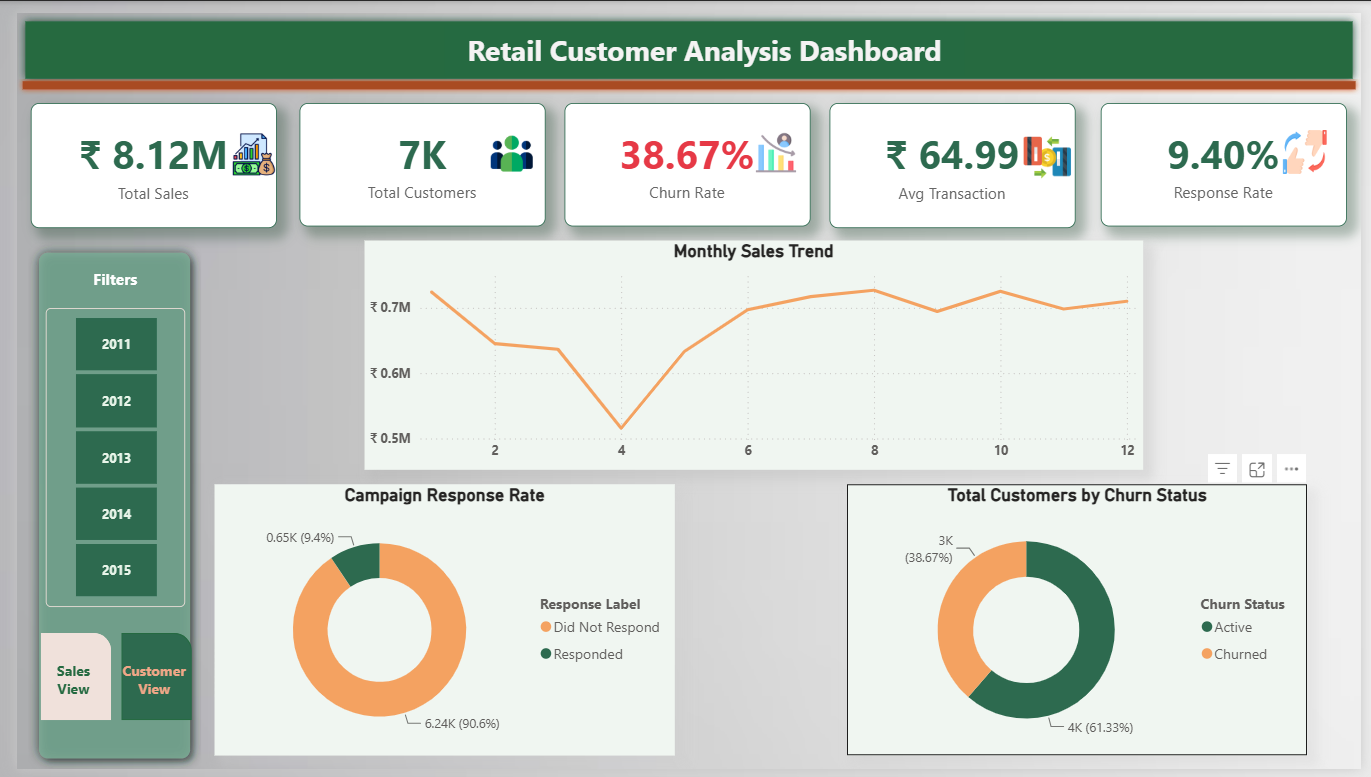

The dashboard page shown, as its layout file describes it:
{"tool":"powerbi","page":{"name":"Dashboard","canvas":[1280,720],"ordinal":0},"visuals":[{"type":"shape","box":[10.2,217.8,164.5,502.5],"z":0},{"type":"shape","box":[0,0,1280,70.6],"z":1000},{"type":"textbox","box":[407,11.6,495.4,47.7],"z":2000},{"type":"shape","box":[0,59.3,1280.2,18.6],"z":3000},{"type":"cardVisual","fields":{"Data":["clean_customer_summary.Total Sales"]},"box":[13.6,86.2,234.8,119.1],"z":4000},{"type":"cardVisual","fields":{"Data":["clean_customer_summary.Total Customers"]},"box":[268.8,86.2,234.8,118],"z":5000},{"type":"cardVisual","fields":{"Data":["clean_customer_summary.Response Rate"]},"box":[1032.1,86.2,234.8,118],"z":6000},{"type":"cardVisual","fields":{"Data":["clean_customer_summary.Churn Rate"]},"box":[521.7,86.2,234.8,118],"z":7000},{"type":"cardVisual","fields":{"Data":["clean_customer_summary.Avg Transaction"]},"box":[773.5,86.2,234.8,119.1],"z":8000},{"type":"clusteredBarChart","title":"Total Sales by Year","fields":{"Category":["clean_transactions.trans_year"],"Y":["clean_customer_summary.Total Sales"]},"box":[190,448.8,437.5,258.8],"z":9000},{"type":"lineChart","title":"Monthly Sales Trend","fields":{"Category":["clean_transactions.trans_month"],"Y":["clean_customer_summary.Total Sales"]},"box":[331.2,216.2,741.2,218.8],"z":10000},{"type":"clusteredBarChart","title":"Top 10 Customers by Spend","fields":{"Y":["Sum(clean_customer_summary.total_spent)"],"Category":["clean_customer_summary.customer_id"]},"box":[790,448.8,436.2,258.8],"z":11000},{"type":"donutChart","fields":{"Category":["clean_customer_summary.Churn Status"],"Y":["clean_customer_summary.Total Customers"]},"box":[790,448.8,438.8,258.8],"z":12000},{"type":"donutChart","title":"Campaign Response Rate","fields":{"Y":["CountNonNull(clean_response.customer_id)"],"Category":["clean_response.Response Label"]},"box":[187.5,448.8,438.8,258.8],"z":13000},{"type":"actionButton","box":[23.8,645.4,138.4,37.4],"z":14000},{"type":"slicer","fields":{"Values":["clean_transactions.trans_year"]},"box":[27.2,281.3,132.7,284.7],"z":15000},{"type":"actionButton","box":[23.8,593.2,138.4,37.4],"z":16000},{"type":"textbox","box":[57.8,238.2,70.3,30.6],"z":17000},{"type":"image","box":[204.2,114.6,44.2,40.8],"z":17001},{"type":"image","box":[451.4,112.3,39.7,44.2],"z":17002},{"type":"image","box":[702.1,112.3,40.8,42],"z":17003},{"type":"image","box":[955,114.6,53.3,46.5],"z":17004},{"type":"image","box":[1200,111.2,53.3,43.1],"z":17005}]}

Visuals, with their boxes in screenshot pixels (x1, y1, x2, y2), scaled from the page's 1280x720 canvas onto the 1371x777 screenshot:
shape: (11, 235, 187, 776)
shape: (0, 0, 1370, 76)
textbox: (436, 13, 967, 64)
shape: (0, 64, 1370, 84)
cardVisual - clean_customer_summary.Total Sales: (15, 93, 266, 222)
cardVisual - clean_customer_summary.Total Customers: (288, 93, 539, 220)
cardVisual - clean_customer_summary.Response Rate: (1105, 93, 1357, 220)
cardVisual - clean_customer_summary.Churn Rate: (559, 93, 810, 220)
cardVisual - clean_customer_summary.Avg Transaction: (828, 93, 1080, 222)
"Total Sales by Year" clusteredBarChart: (204, 484, 672, 764)
"Monthly Sales Trend" lineChart: (355, 233, 1149, 469)
"Top 10 Customers by Spend" clusteredBarChart: (846, 484, 1313, 764)
donutChart - clean_customer_summary.Churn Status x clean_customer_summary.Total Customers: (846, 484, 1316, 764)
"Campaign Response Rate" donutChart: (201, 484, 671, 764)
actionButton: (25, 696, 174, 737)
slicer - clean_transactions.trans_year: (29, 304, 171, 611)
actionButton: (25, 640, 174, 681)
textbox: (62, 257, 137, 290)
image: (219, 124, 266, 168)
image: (483, 121, 526, 169)
image: (752, 121, 796, 167)
image: (1023, 124, 1080, 174)
image: (1285, 120, 1342, 167)
